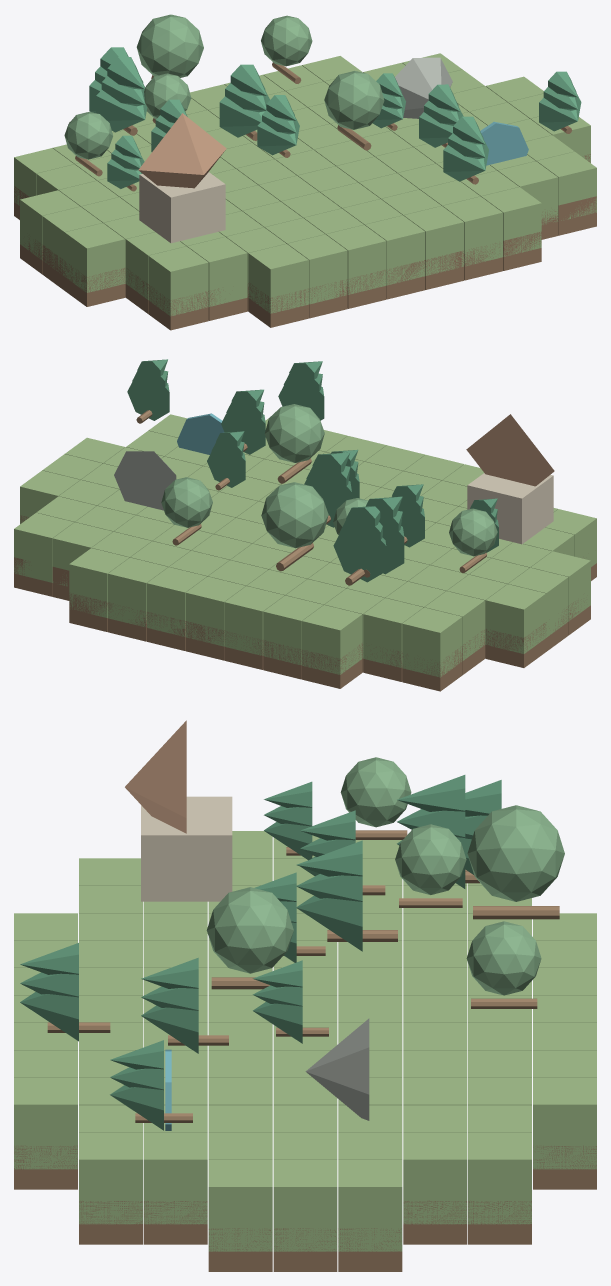
The model's file is forest_guardian_island.glb.
The picture shows the model from 3 angles, top to bottom: view 1: azimuth 30°, elevation 25°; view 2: azimuth 150°, elevation 25°; view 3: azimuth 270°, elevation 25°; orthographic projection. The views are drawn at different scales.
Visible parts, largest first — view 1: forest_245, forest_246, forest_005, forest_019, forest_051, forest_212, forest_232, forest_105, forest_033, forest_087, forest_141, forest_069 (+93 smaller); view 2: forest_245, forest_001, forest_035, forest_007, forest_246, forest_212, forest_232, forest_071, forest_021, forest_089, forest_053, forest_107 (+95 smaller); view 3: forest_245, forest_212, forest_177, forest_185, forest_189, forest_191, forest_193, forest_159, forest_143, forest_187, forest_175, forest_232 (+111 smaller).
Part boxes in pixels (x1,y1,x2,y2): forest_245: [139, 172, 225, 243]; forest_246: [138, 113, 226, 188]; forest_005: [64, 223, 125, 292]; forest_019: [148, 246, 208, 316]; forest_051: [248, 244, 308, 313]; forest_212: [136, 14, 203, 77]; forest_232: [324, 71, 384, 129]; forest_105: [365, 215, 425, 285]; forest_033: [187, 237, 247, 306]; forest_087: [326, 225, 386, 294]; forest_141: [442, 196, 502, 266]; forest_069: [287, 234, 347, 304]; forest_245: [467, 473, 553, 544]; forest_001: [485, 584, 546, 653]; forest_035: [302, 605, 362, 674]; forest_007: [402, 607, 462, 677]; forest_246: [466, 414, 554, 486]; forest_212: [261, 482, 328, 548]; forest_232: [264, 404, 324, 462]; forest_071: [224, 586, 284, 655]; forest_021: [363, 598, 423, 667]; forest_089: [185, 576, 245, 646]; forest_053: [263, 595, 323, 665]; forest_107: [147, 567, 207, 636]; forest_245: [141, 796, 232, 901]; forest_212: [467, 805, 564, 901]; forest_177: [403, 1132, 467, 1224]; forest_185: [143, 1132, 207, 1224]; forest_189: [338, 1160, 402, 1251]; forest_191: [273, 1160, 337, 1251]; forest_193: [208, 1160, 272, 1251]; forest_159: [14, 1077, 77, 1169]; forest_143: [533, 1077, 596, 1169]; forest_187: [79, 1132, 142, 1224]; forest_175: [468, 1132, 531, 1224]; forest_232: [206, 887, 293, 973].
Bounding box in the file's own units: 9.22 × 3.11 × 6.38.
